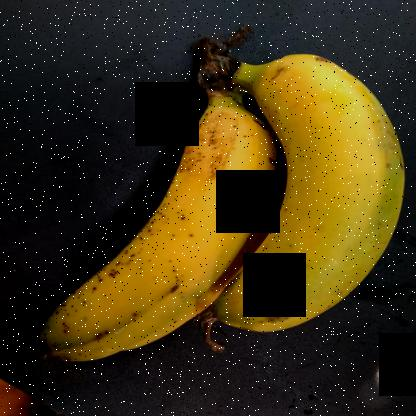freshripe: (206, 16, 415, 338)
ripe: (56, 85, 273, 367)
